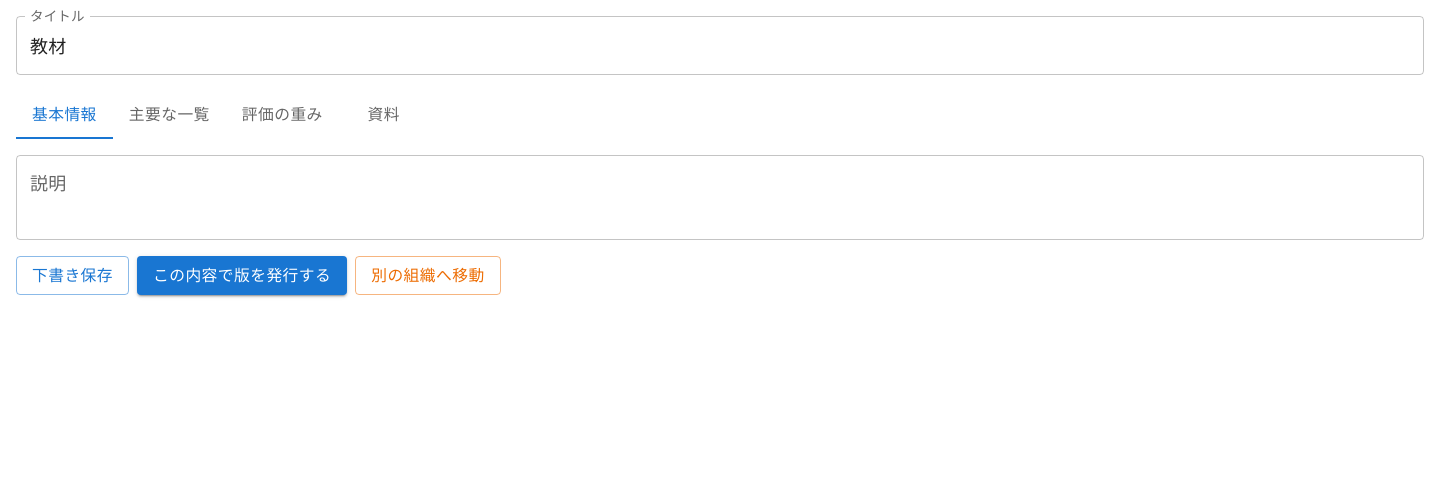
Test case: TemplateEditorPage › shows a quota message when regeneration is rejected with resource-exhausted
Click the tab "資料" at [384, 115], box [339,91,429,139]
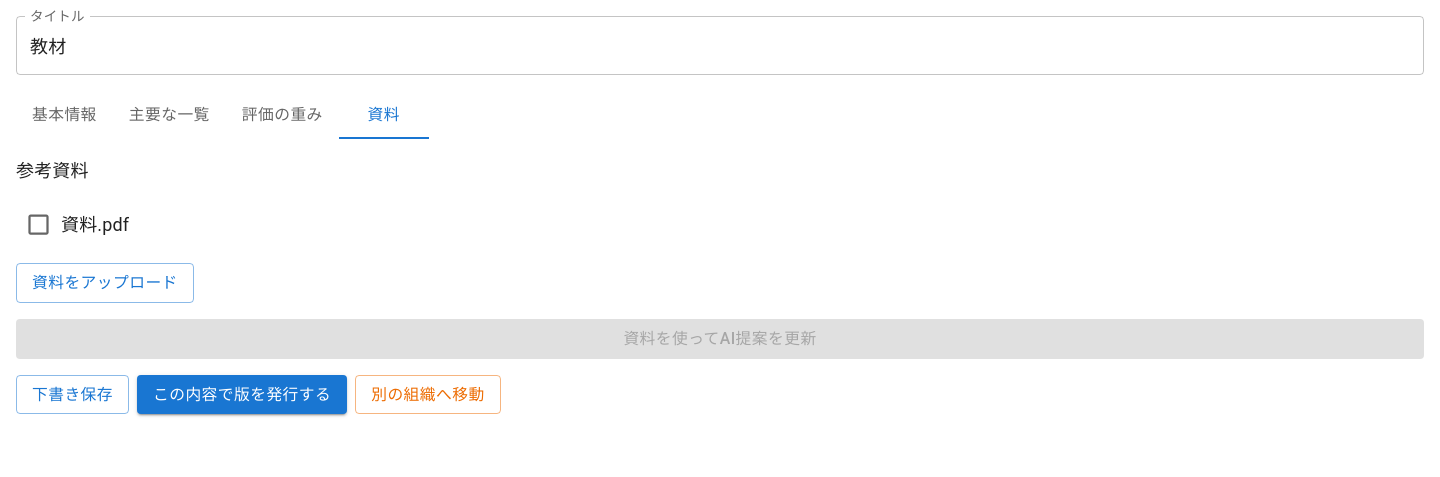
expect the checkbox labelled "資料.pdf" is shown: met
Click the checkbox labelled "資料.pdf" at [77, 225], box [25,211,129,238]
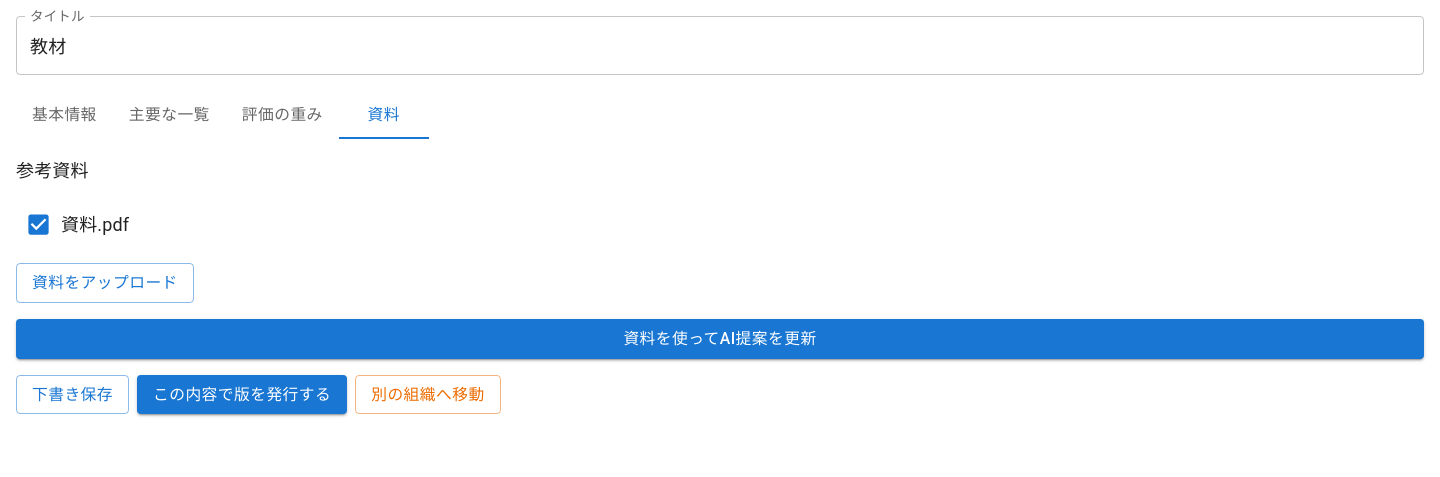
Click the button "資料を使ってAI提案を更新" at [720, 339], box [16,319,1424,358]
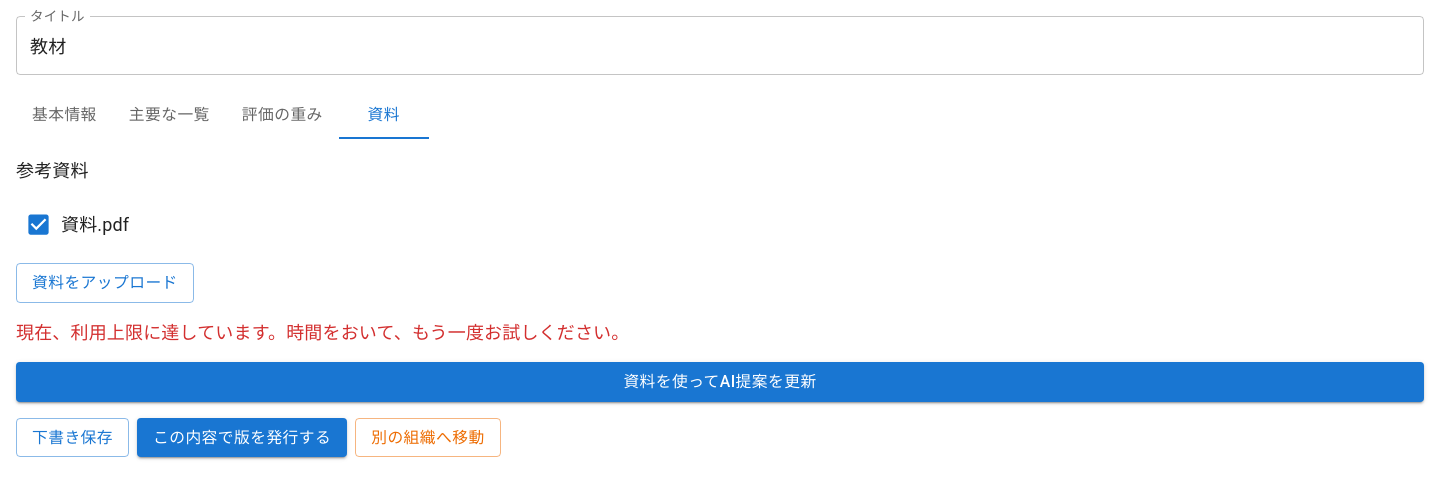
expect the text "現在、利用上限に達しています。時間をおいて、もう一度お試しください。" is shown: met, box [16,322,629,343]
